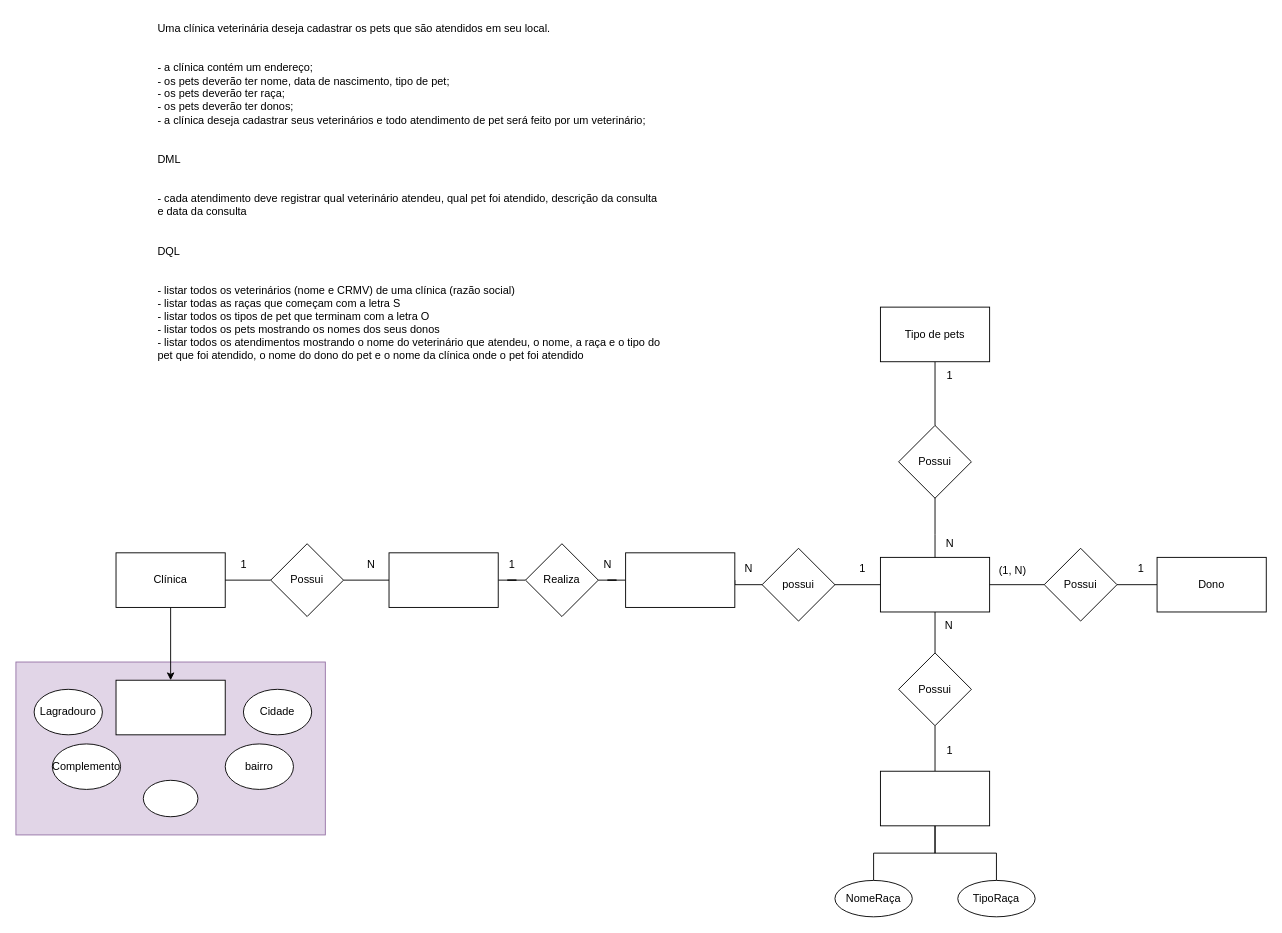
Image size: 1282x933. Some labels were removed from this diagram. The centre of each missing label's shape, as x and y in pixels:
"atendimento" belongs at (x=680, y=579).
"Endereco" belongs at (x=170, y=707).
"número" belongs at (x=170, y=798).
"Pets" belongs at (x=935, y=584).
"Raca" belongs at (x=935, y=798).
"Veterinarios" belongs at (x=443, y=579).
